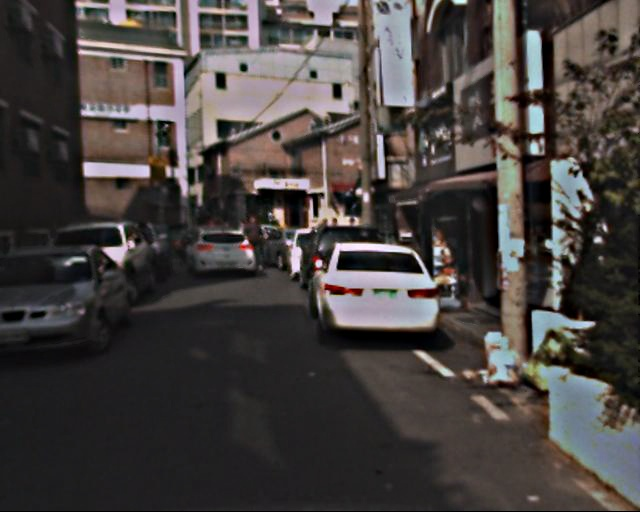person: (243, 212, 268, 274)
